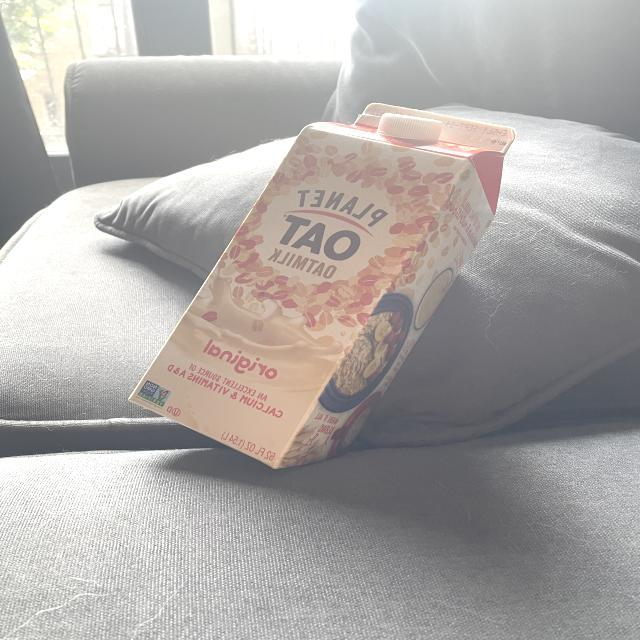Planet Oat Original: (125, 96, 524, 480)
